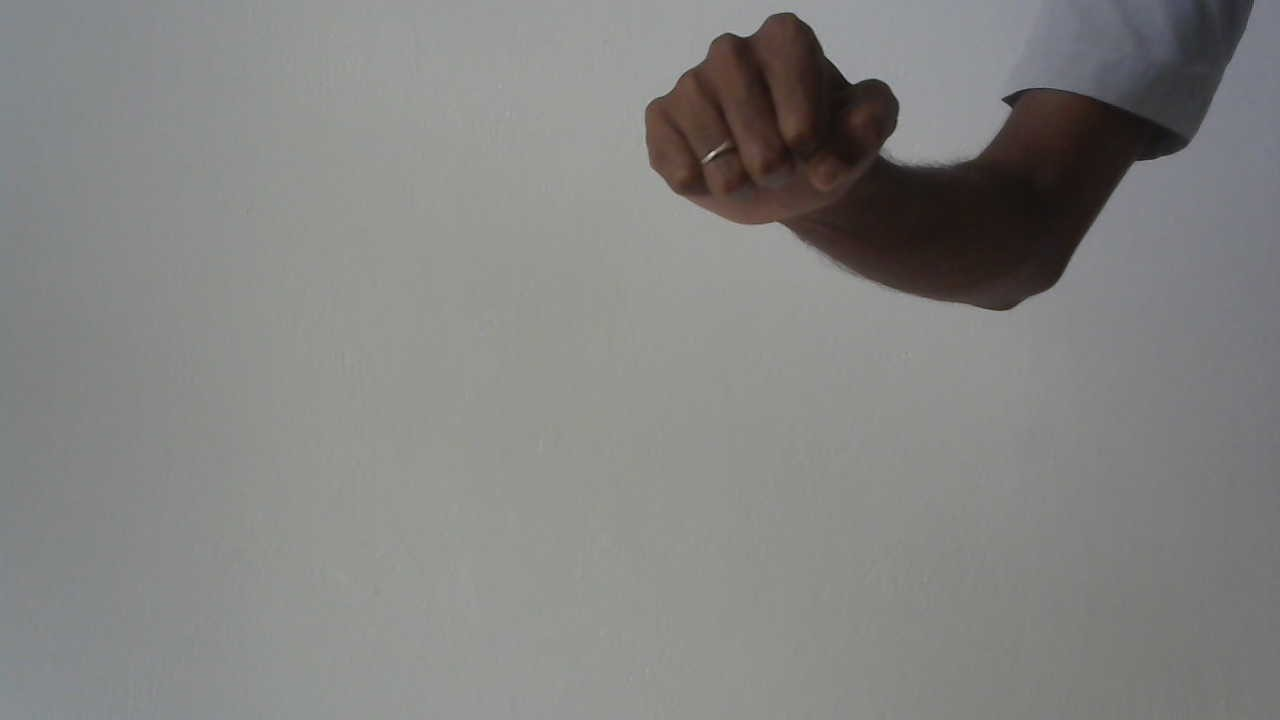yes: (616, 11, 921, 247)
